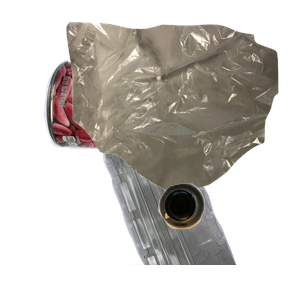glass: (156, 181, 300, 300)
metal: (41, 58, 240, 207)
plastic: (55, 120, 284, 300)
trash: (64, 20, 300, 200)
